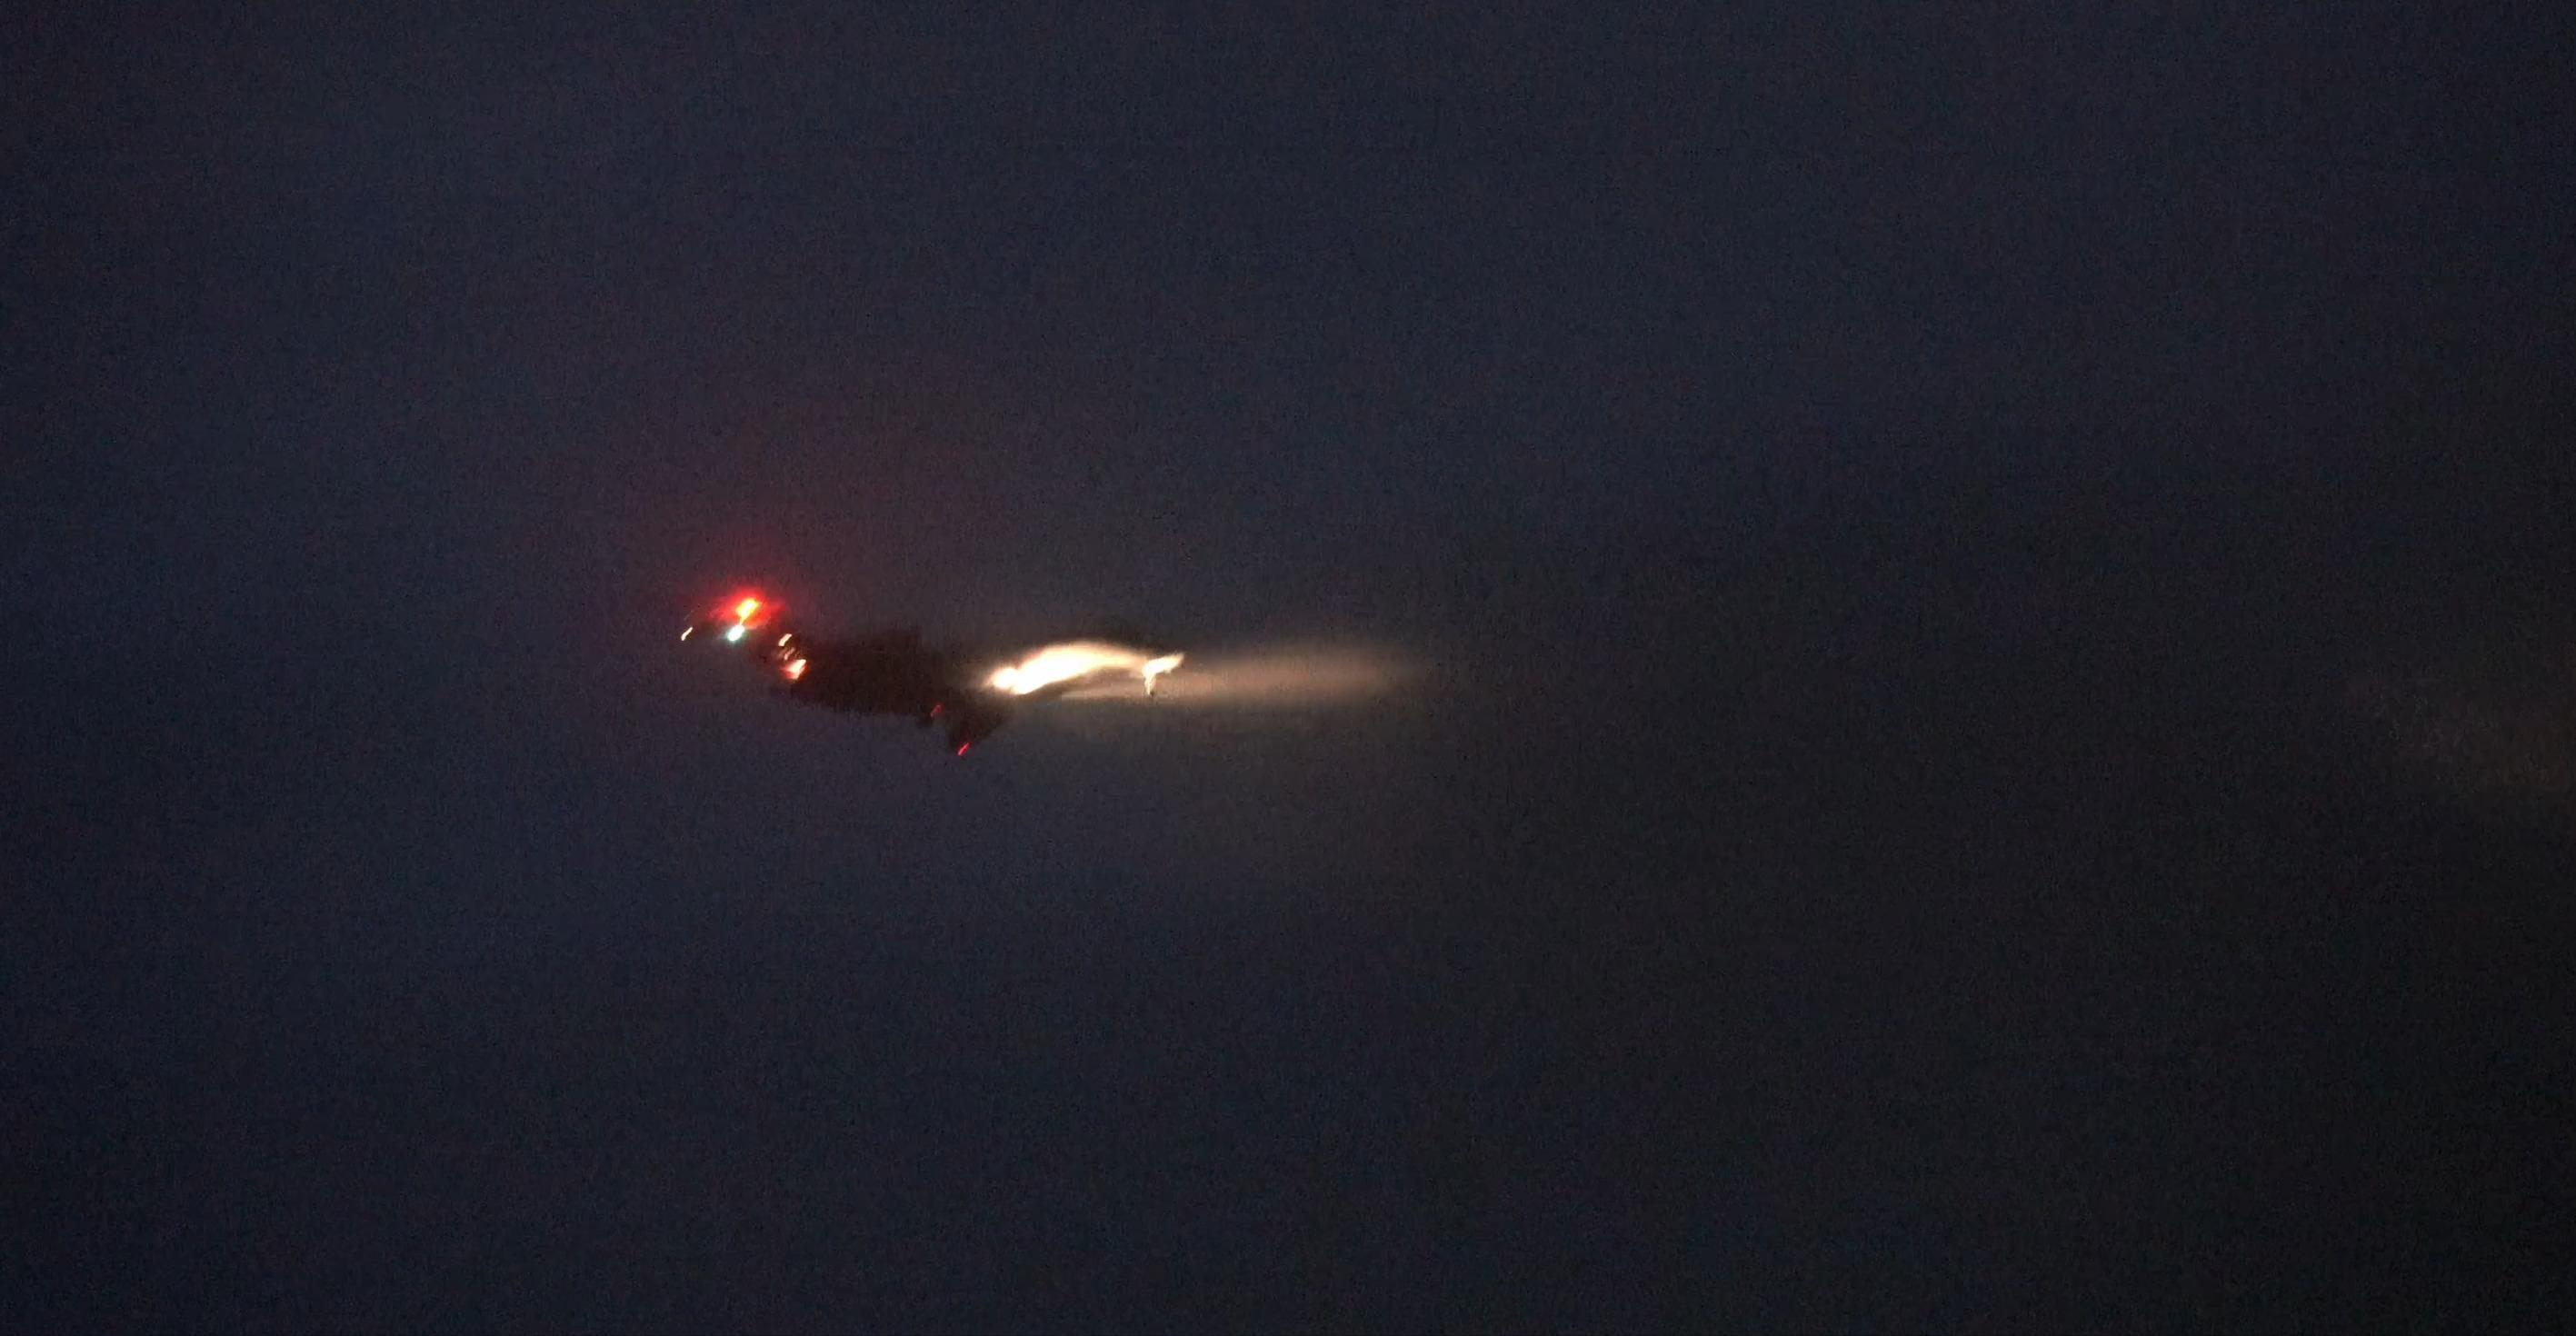Plane: (649, 552, 1228, 772)
